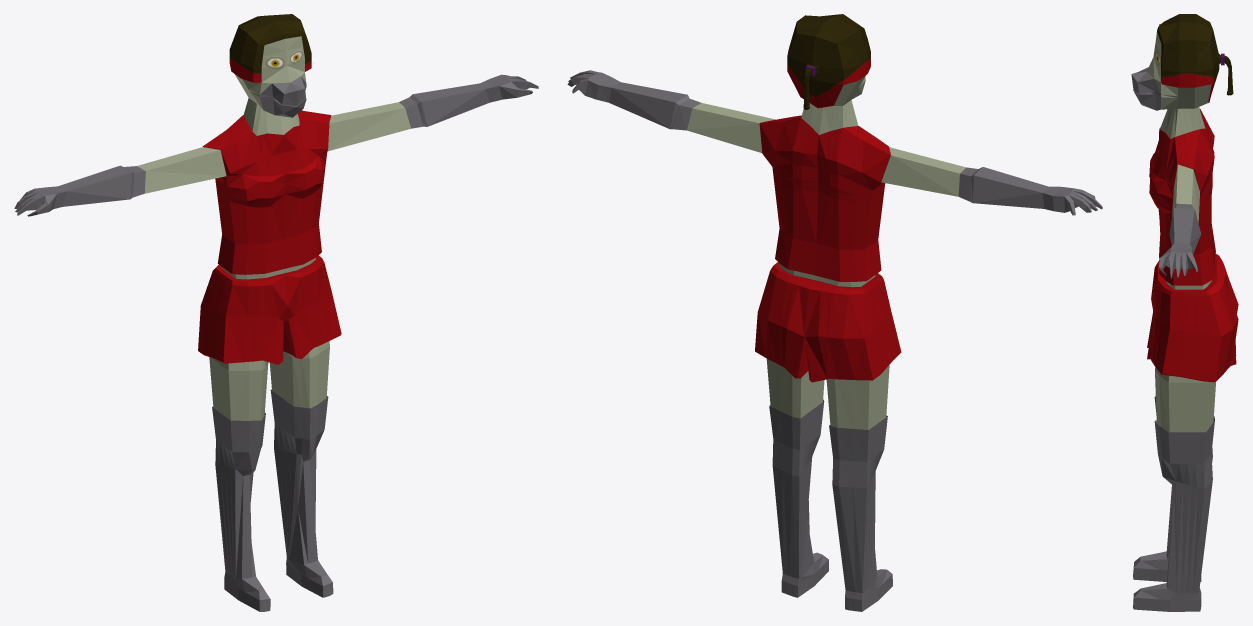
Rendered from Wulfrun.obj.
3 views of the same model, side by side, from view 1: azimuth 30°, elevation 25°; view 2: azimuth 150°, elevation 25°; view 3: azimuth 270°, elevation 25° (orthographic). The views are drawn at different scales.
Visible parts, largest first — view 1: Cube; view 2: Cube; view 3: Cube.
Boxes of the visible parts, x1,y1,x2,y2 form: Cube: (14,14,538,611); Cube: (567,14,1102,611); Cube: (1131,14,1238,611).
Bounding box in the file's own units: 13.21 × 13.73 × 2.34.
